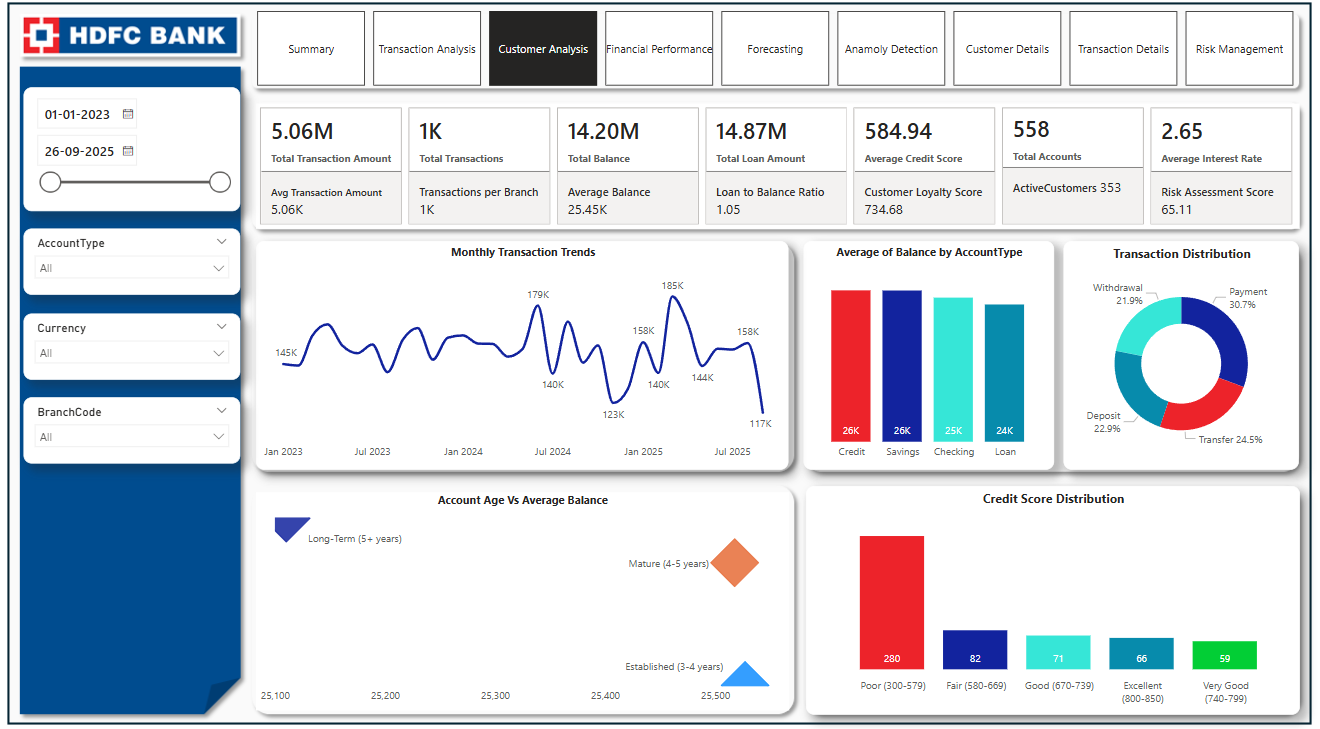

This screenshot's page, from the dashboard's own definition file:
{"tool":"powerbi","page":{"name":"Customer & Account Analysis","canvas":[1600,900],"ordinal":3},"visuals":[{"type":"cardVisual","fields":{"Data":["All Measures.Total Transaction Amount","All Measures.Total Transactions","All Measures.Total Balance","All Measures.Total Loan Amount","All Measures.Average Credit Score","All Measures.Total Accounts","All Measures.Average Interest Rate"]},"box":[248.3,13.3,1330,90],"z":0},{"type":"donutChart","title":"Distribution Of Account Type","fields":{"Category":["customer_account_details.AccountType"],"Y":["CountNonNull(customer_account_details.AccountNumber)"]},"box":[248.3,123.3,585,263.3],"z":1000},{"type":"clusteredColumnChart","title":"Credit Score Distribution","fields":{"Category":["customer_account_details.AccountType"],"Series":["customer_account_details.Credit Score Category"],"Y":["CountNonNull(customer_account_details.AccountNumber)"]},"box":[856.7,123.3,721.7,263.3],"z":2000},{"type":"columnChart","fields":{"Y":["Avg(customer_account_details.Balance)"],"Category":["customer_account_details.AccountType"]},"box":[248.3,400,585,241.7],"z":3000},{"type":"treemap","title":"City Wise Customers","fields":{"Group":["customer_account_details.City"],"Values":["CountNonNull(customer_account_details.AccountNumber)"]},"box":[856.7,413.3,721.7,456.7],"z":4000},{"type":"columnChart","title":"Number Of Customers by Sector","fields":{"Series":["customer_account_details.Sector"],"Y":["CountNonNull(customer_account_details.AccountNumber)"],"Category":["customer_account_details.Sector"]},"box":[248.3,656.7,585,213.3],"z":5000},{"type":"pageNavigator","box":[16.7,268.3,196.7,38.3],"z":6000},{"type":"pageNavigator","box":[16.7,381.7,196.7,43.3],"z":7000},{"type":"pageNavigator","box":[16.7,483.3,196.7,53.3],"z":8000},{"type":"pageNavigator","box":[16.7,590,196.7,50],"z":9000},{"type":"pageNavigator","box":[16.7,696.7,196.7,50],"z":10000},{"type":"pageNavigator","box":[16.7,808.3,196.7,40],"z":11000},{"type":"image","title":"Filter Button","box":[83.3,118.3,61.7,48.3],"z":12501}]}

Visuals, with their boxes in screenshot pixels (x1, y1, x2, y2), scaled from the page's 1600x900 canvas onto the 1320x729 screenshot:
cardVisual - All Measures.Total Transaction Amount x All Measures.Total Transactions: pyautogui.locateOnScreen(205, 11, 1302, 84)
"Distribution Of Account Type" donutChart: pyautogui.locateOnScreen(205, 100, 687, 313)
"Credit Score Distribution" clusteredColumnChart: pyautogui.locateOnScreen(707, 100, 1302, 313)
columnChart - Avg(customer_account_details.Balance) x customer_account_details.AccountType: pyautogui.locateOnScreen(205, 324, 687, 520)
"City Wise Customers" treemap: pyautogui.locateOnScreen(707, 335, 1302, 705)
"Number Of Customers by Sector" columnChart: pyautogui.locateOnScreen(205, 532, 687, 705)
pageNavigator: pyautogui.locateOnScreen(14, 217, 176, 248)
pageNavigator: pyautogui.locateOnScreen(14, 309, 176, 344)
pageNavigator: pyautogui.locateOnScreen(14, 391, 176, 435)
pageNavigator: pyautogui.locateOnScreen(14, 478, 176, 518)
pageNavigator: pyautogui.locateOnScreen(14, 564, 176, 605)
pageNavigator: pyautogui.locateOnScreen(14, 655, 176, 687)
"Filter Button" image: pyautogui.locateOnScreen(69, 96, 120, 135)
